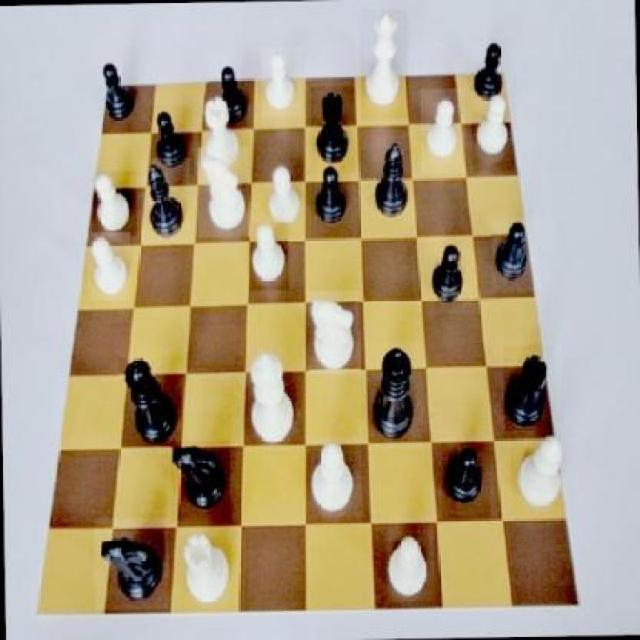bishop: (140, 157, 191, 241), (370, 134, 414, 224)
black-bishop: (365, 340, 422, 449)
black-king: (94, 518, 169, 612), (171, 438, 231, 521)
black-knight: (442, 440, 491, 520), (491, 218, 540, 294), (309, 154, 352, 240), (426, 237, 474, 314), (469, 28, 513, 110), (98, 57, 141, 131), (208, 56, 255, 122), (150, 104, 194, 174)
black-pawn: (120, 356, 188, 448)
black-queen: (503, 344, 556, 432), (310, 86, 358, 174)
black-rook: (510, 431, 574, 521), (308, 436, 363, 526)
white-bishop: (240, 350, 299, 452)
white-king: (197, 148, 251, 238), (308, 291, 360, 374)
white-knight: (471, 85, 517, 172), (420, 88, 466, 174), (260, 157, 305, 236), (386, 529, 434, 602), (88, 232, 132, 300), (92, 171, 137, 237), (262, 46, 302, 117), (248, 222, 288, 290)
white-pawn: (358, 9, 408, 120)
white-queen: (180, 532, 235, 606), (202, 92, 246, 183)
